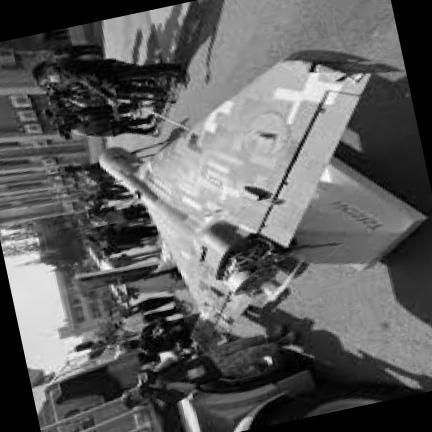Shahed: (99, 56, 400, 353)
